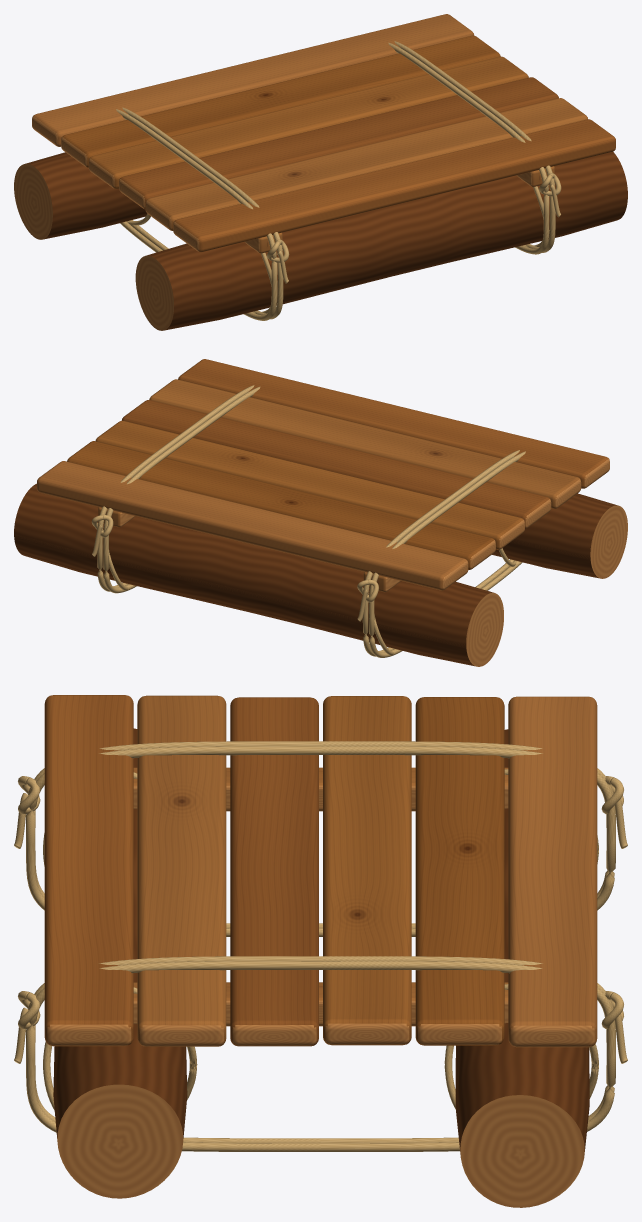
File: SM_CataclysmRaft.glb
3 views of the same model, one above another, from view 1: azimuth 30°, elevation 25°; view 2: azimuth 150°, elevation 25°; view 3: azimuth 270°, elevation 25° (orthographic). The views are drawn at different scales.
Visible parts, largest first — view 1: SM_CataclysmRaft; view 2: SM_CataclysmRaft; view 3: SM_CataclysmRaft.
Boxes of the visible parts, x1=… form: SM_CataclysmRaft: x1=14, y1=14, x2=627, y2=330; SM_CataclysmRaft: x1=14, y1=359, x2=627, y2=666; SM_CataclysmRaft: x1=14, y1=695, x2=627, y2=1207.
Bounding box in the file's own units: 2.78 × 0.67 × 1.96.
1 material, 1 textured.
